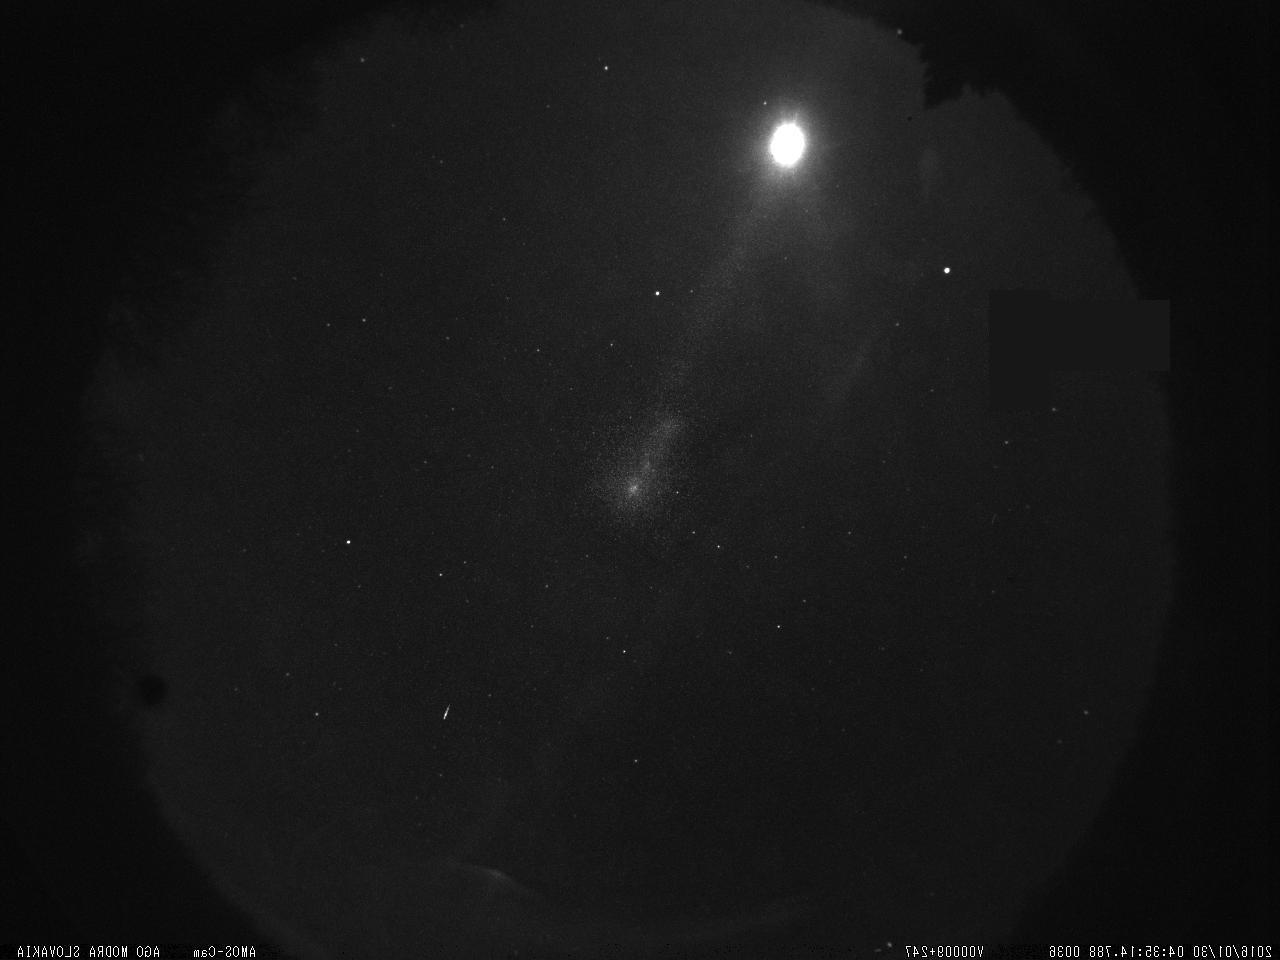meteor: (437, 700, 457, 724)
